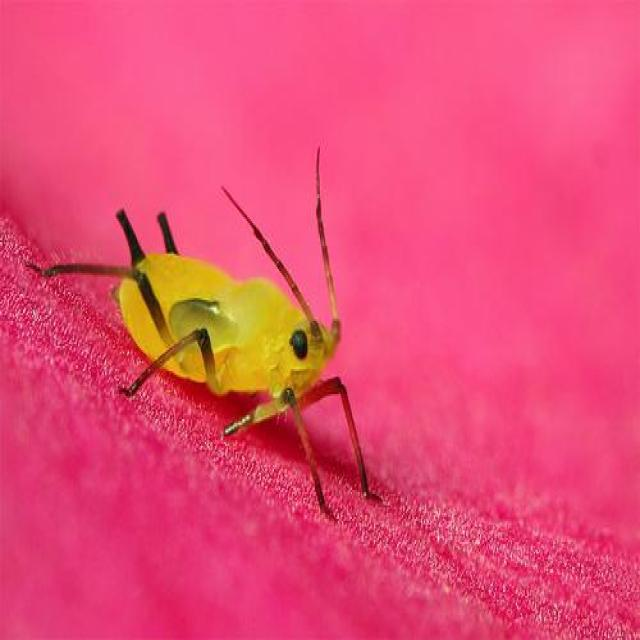Aphids: (29, 169, 404, 546)
